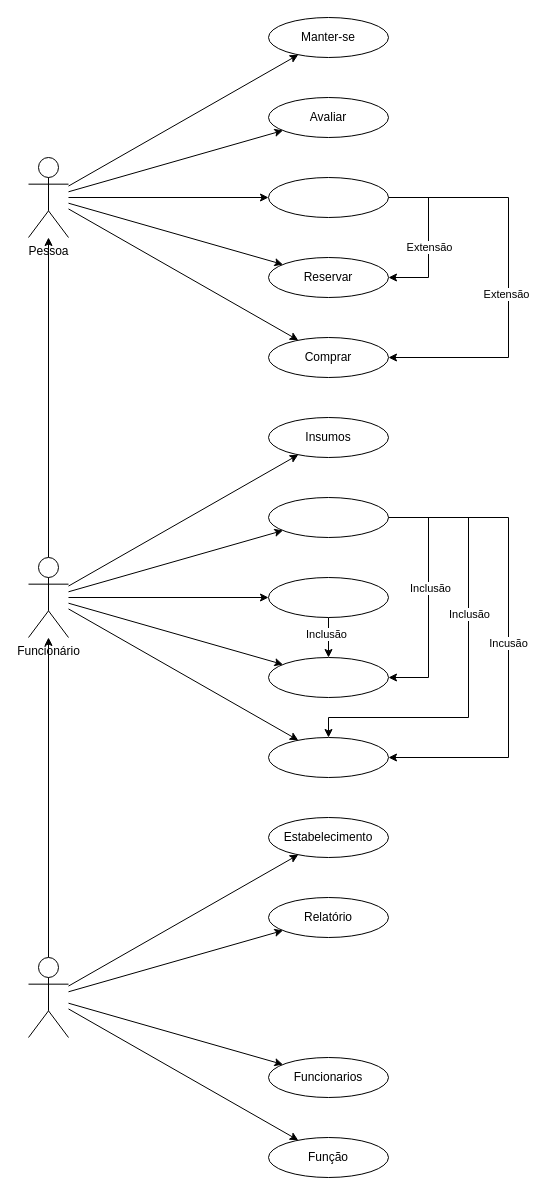
The diagram is 546 pixels wide and 1195 high, and some of its shapes have lost their labels. Here are the shapes that lost their labels. From the top down, the centre of each, then its label:
point 328,197: Ver
point 328,517: Produtos
point 328,597: Servicos
point 328,677: Reservas
point 328,757: Compras
point 48,997: Dono
